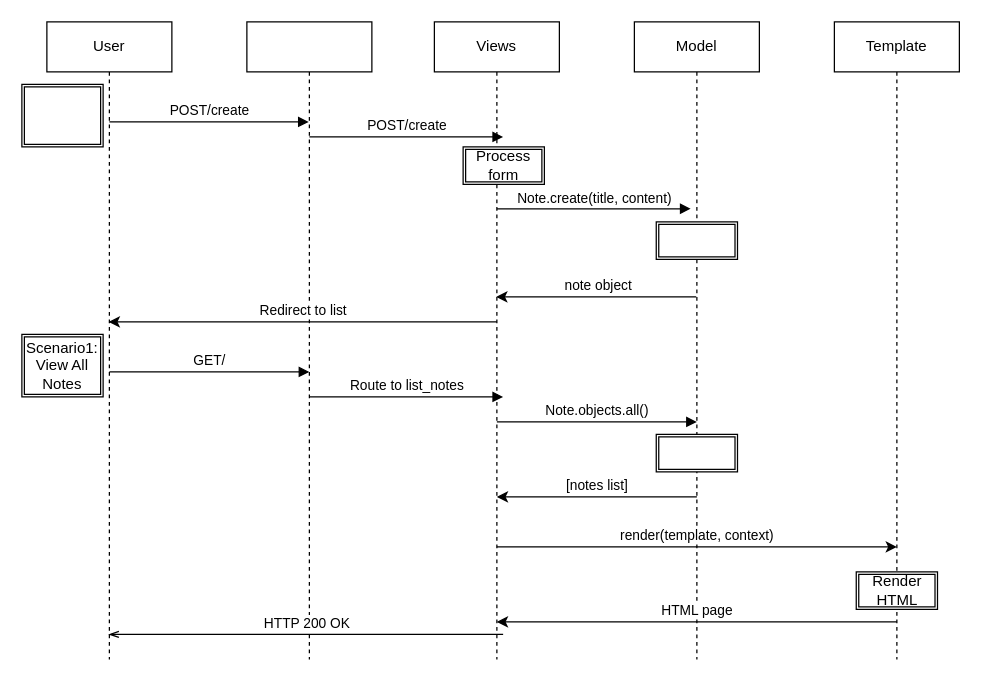
This 981x681 diagram has some shape labels left out. Here are the shapes that lost their labels. From the top down, the centre of each, then its label:
the point at 62,115: Scenario1: create Note
the point at 696,240: Save to DB
the point at 309,340: URLs
the point at 696,452: Query DB
